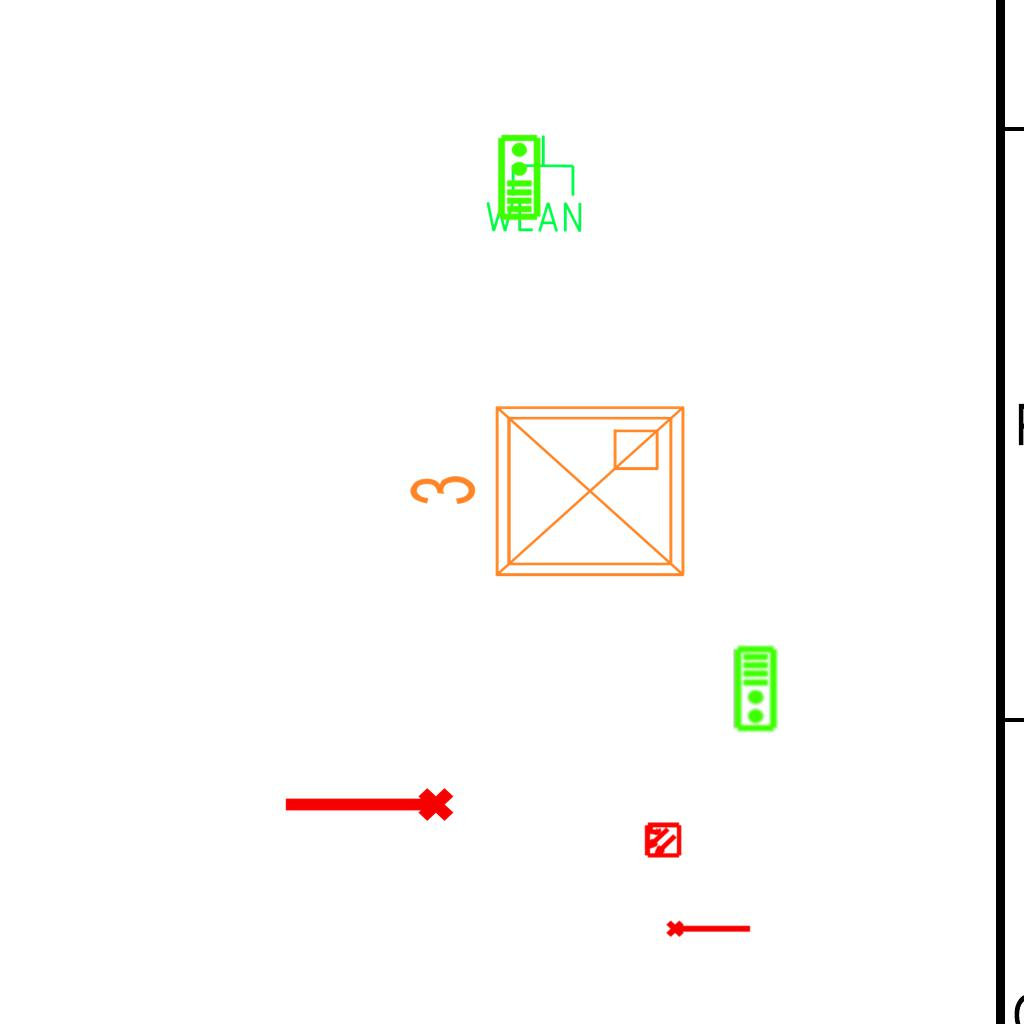ASR_Ansaugoeffnung: (280, 784, 456, 830), (665, 916, 753, 939)
Einbaudownlights_LED_Konferenzraeume: (399, 391, 699, 599)
Gegensprechanlage_mit_Video: (733, 645, 780, 733), (495, 133, 542, 221)
OT_Multisensormelder_(Kombination_RMO_WMD): (634, 812, 690, 868)
WLAN: (481, 132, 586, 236)
